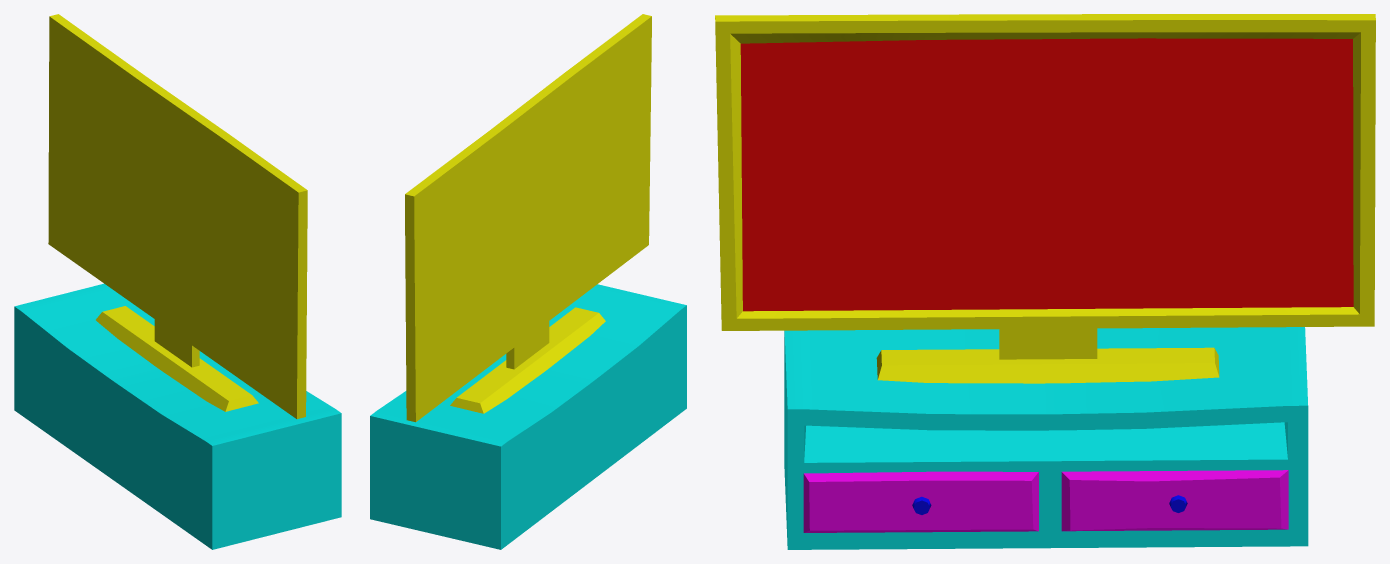
Rendered from LivingRoom_TV.fbx.
3 views of the same model, side by side, from view 1: azimuth 30°, elevation 25°; view 2: azimuth 150°, elevation 25°; view 3: azimuth 270°, elevation 25° (orthographic). The views are drawn at different scales.
Parts seen in each view (by area): view 1: LivingRoom_TV; view 2: LivingRoom_TV; view 3: LivingRoom_TV.
Part boxes in pixels (box(x1,y1,x2,y2)): LivingRoom_TV: box(14, 14, 341, 549); LivingRoom_TV: box(370, 14, 686, 549); LivingRoom_TV: box(715, 14, 1375, 549).
Bounding box in the file's own units: 88.05 × 212 × 260.
